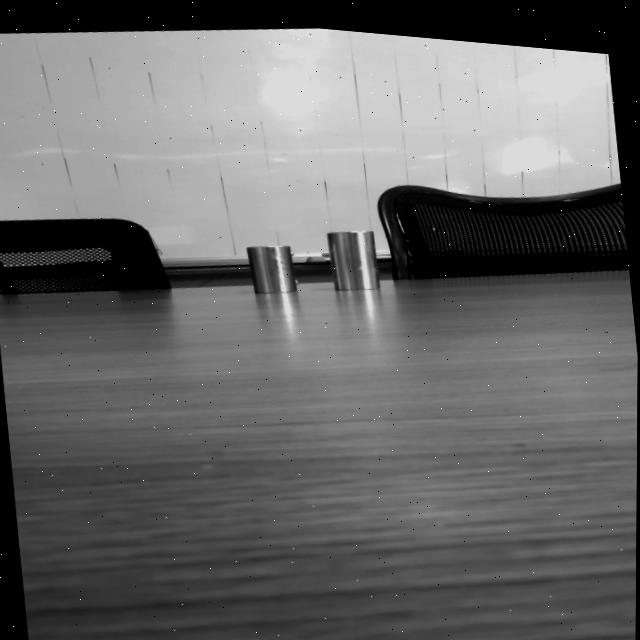Co_Lon: (326, 226, 379, 293)
Co_Nho: (246, 239, 297, 297)
